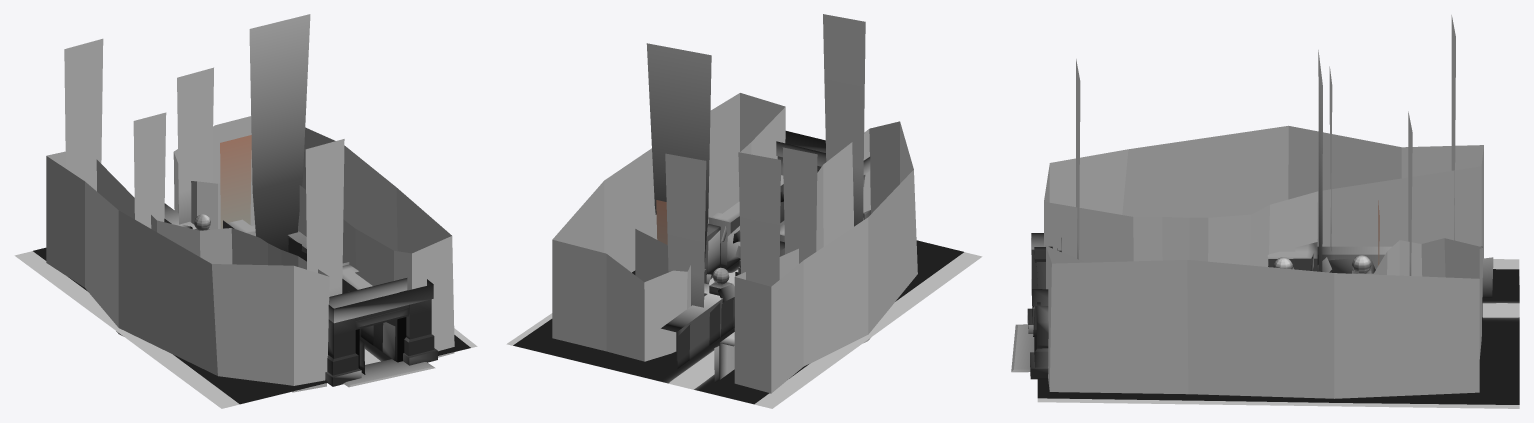
The model's file is cgc_connector1.fbx.
The picture shows the model from 3 angles, left to right: view 1: azimuth 30°, elevation 25°; view 2: azimuth 150°, elevation 25°; view 3: azimuth 270°, elevation 25°; orthographic projection. The views are drawn at different scales.
Parts seen in each view (by area): view 1: hedge1, tree_29, pPlane53, pPlane46, pPlane41, groundshadow1, pPlane50, pPlane3, pCube131, groundshadow2, rooftower_3, rooftower_4 (+4 smaller); view 2: hedge1, tree_29, pPlane53, groundshadow2, pPlane46, pPlane41, groundshadow1, pPlane50, pCube136, pCube131, pCube137, polySurface25 (+2 smaller); view 3: hedge1, groundshadow2, groundshadow1, tree_29, pCube137, SeemPatch, rooftower_4, pCube131, pPlane46, pPlane53, pPlane41, polySurface26.
Part boxes in pixels (<box>): hedge1: <box>46,116,454,392</box>; tree_29: <box>249,14,310,251</box>; pPlane53: <box>305,139,344,296</box>; pPlane46: <box>64,38,103,191</box>; pPlane41: <box>177,67,213,224</box>; groundshadow1: <box>14,251,477,408</box>; pPlane50: <box>133,112,166,228</box>; pPlane3: <box>220,135,251,228</box>; pCube131: <box>328,278,433,323</box>; groundshadow2: <box>33,247,470,404</box>; rooftower_3: <box>327,305,408,375</box>; rooftower_4: <box>400,290,434,356</box>; hedge1: <box>552,93,917,393</box>; tree_29: <box>646,43,711,261</box>; pPlane53: <box>823,14,865,226</box>; groundshadow2: <box>513,240,963,404</box>; pPlane46: <box>738,152,780,286</box>; pPlane41: <box>665,153,706,307</box>; groundshadow1: <box>506,252,982,408</box>; pPlane50: <box>782,147,817,263</box>; pCube136: <box>661,223,733,369</box>; pCube131: <box>776,131,870,174</box>; pCube137: <box>719,241,784,379</box>; polySurface25: <box>708,184,784,265</box>; hedge1: <box>1044,125,1483,398</box>; groundshadow2: <box>1037,269,1519,404</box>; groundshadow1: <box>1037,259,1519,408</box>; tree_29: <box>1318,50,1322,271</box>; pCube137: <box>1272,246,1482,273</box>; SeemPatch: <box>1011,324,1034,372</box>; rooftower_4: <box>1034,302,1048,367</box>; pCube131: <box>1031,233,1061,305</box>; pPlane46: <box>1451,15,1455,240</box>; pPlane53: <box>1076,59,1080,259</box>; pPlane41: <box>1408,111,1412,275</box>; polySurface26: <box>1267,242,1317,260</box>.
Size of what is drawn, in the model's own units: 92.37 by 85.8 by 132.
